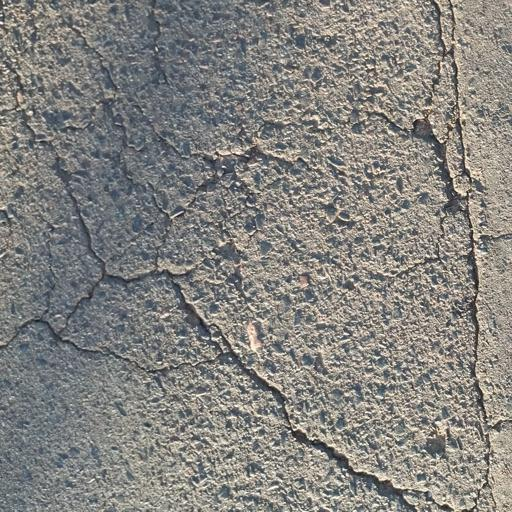GRIETA: (243, 367, 461, 511), (464, 211, 491, 511)
PIEL DE COCODRILO: (0, 0, 311, 380), (401, 0, 475, 214)
